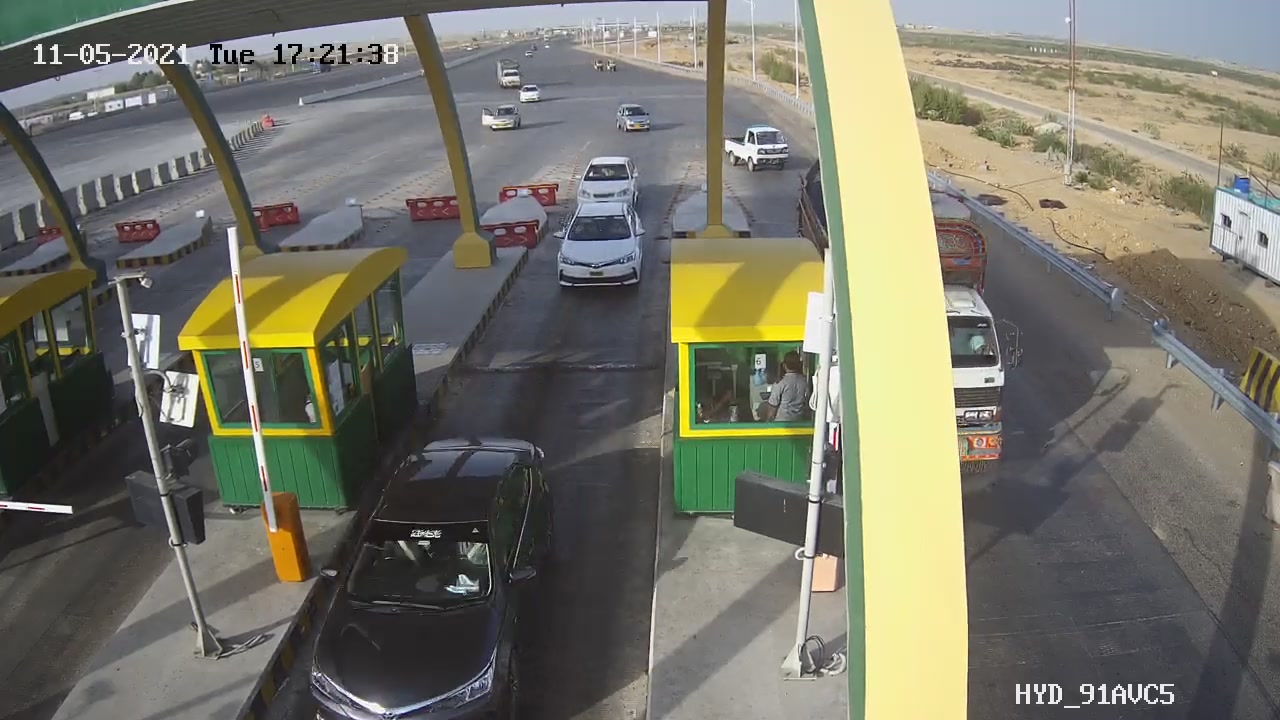F1: (544, 188, 663, 304)
